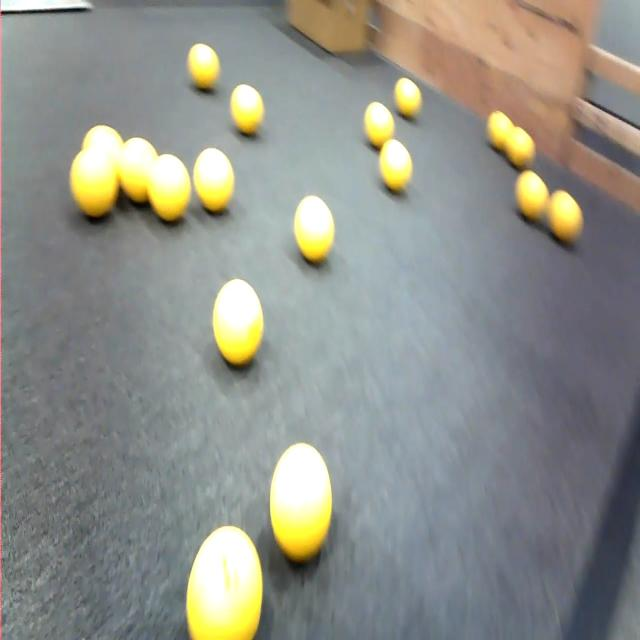fuel: (186, 527, 262, 639), (270, 443, 332, 562), (213, 280, 263, 367), (70, 147, 118, 217), (148, 154, 191, 223), (294, 196, 334, 263), (193, 149, 234, 212), (118, 137, 157, 203), (548, 191, 583, 244), (379, 139, 412, 192), (230, 85, 264, 135), (515, 170, 548, 221), (187, 44, 219, 90), (82, 125, 123, 160), (364, 102, 394, 148), (505, 127, 535, 169), (394, 78, 422, 119), (486, 111, 514, 152)
